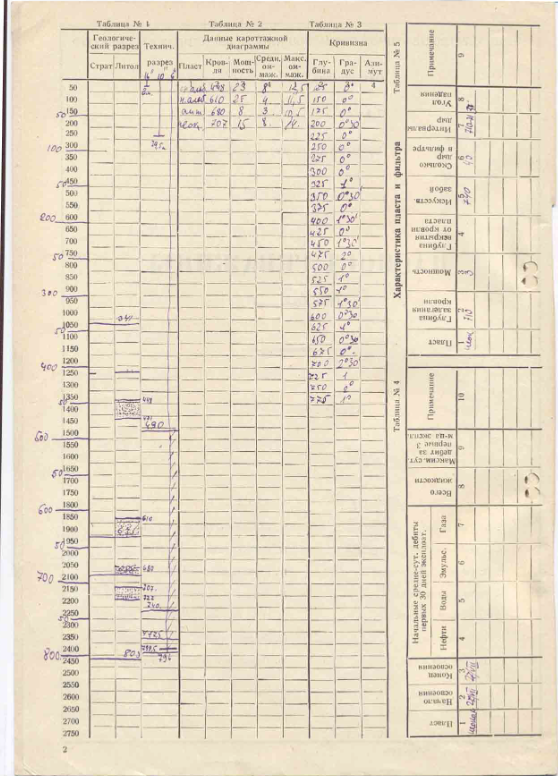Bordered: (305, 28, 388, 423)
